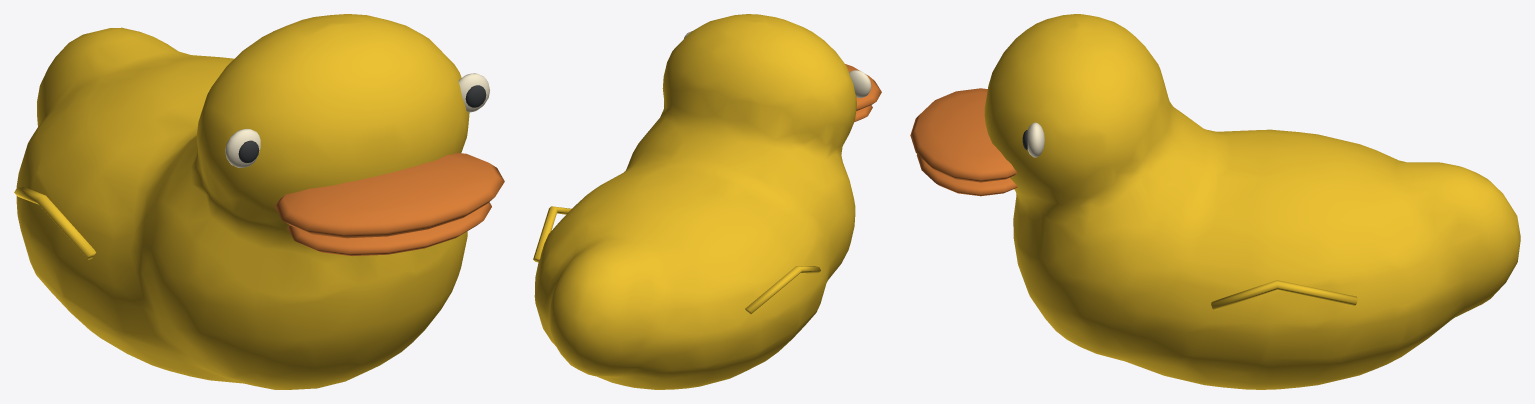
Rendered from P049_rubber_duck_rebuilt.glb.
3 views of the same model, side by side, from view 1: azimuth 30°, elevation 25°; view 2: azimuth 150°, elevation 25°; view 3: azimuth 270°, elevation 25° (orthographic). The views are drawn at different scales.
Parts seen in each view (by area): view 1: Duck_warm_yellow_vinyl, Duck_bill_orange_vinyl, cream, ink; view 2: Duck_warm_yellow_vinyl, Duck_bill_orange_vinyl, cream; view 3: Duck_warm_yellow_vinyl, Duck_bill_orange_vinyl, cream.
Boxes of the visible parts, x1,y1,x2,y2 form: Duck_warm_yellow_vinyl: [14, 14, 469, 389]; Duck_bill_orange_vinyl: [274, 152, 504, 256]; cream: [225, 73, 489, 167]; ink: [238, 85, 486, 162]; Duck_warm_yellow_vinyl: [533, 14, 856, 389]; Duck_bill_orange_vinyl: [845, 64, 881, 121]; cream: [684, 31, 871, 97]; Duck_warm_yellow_vinyl: [984, 14, 1520, 389]; Duck_bill_orange_vinyl: [910, 88, 1017, 196]; cream: [1027, 122, 1044, 157].
Bounding box in the file's own units: 0.1808 × 0.196 × 0.3158.
